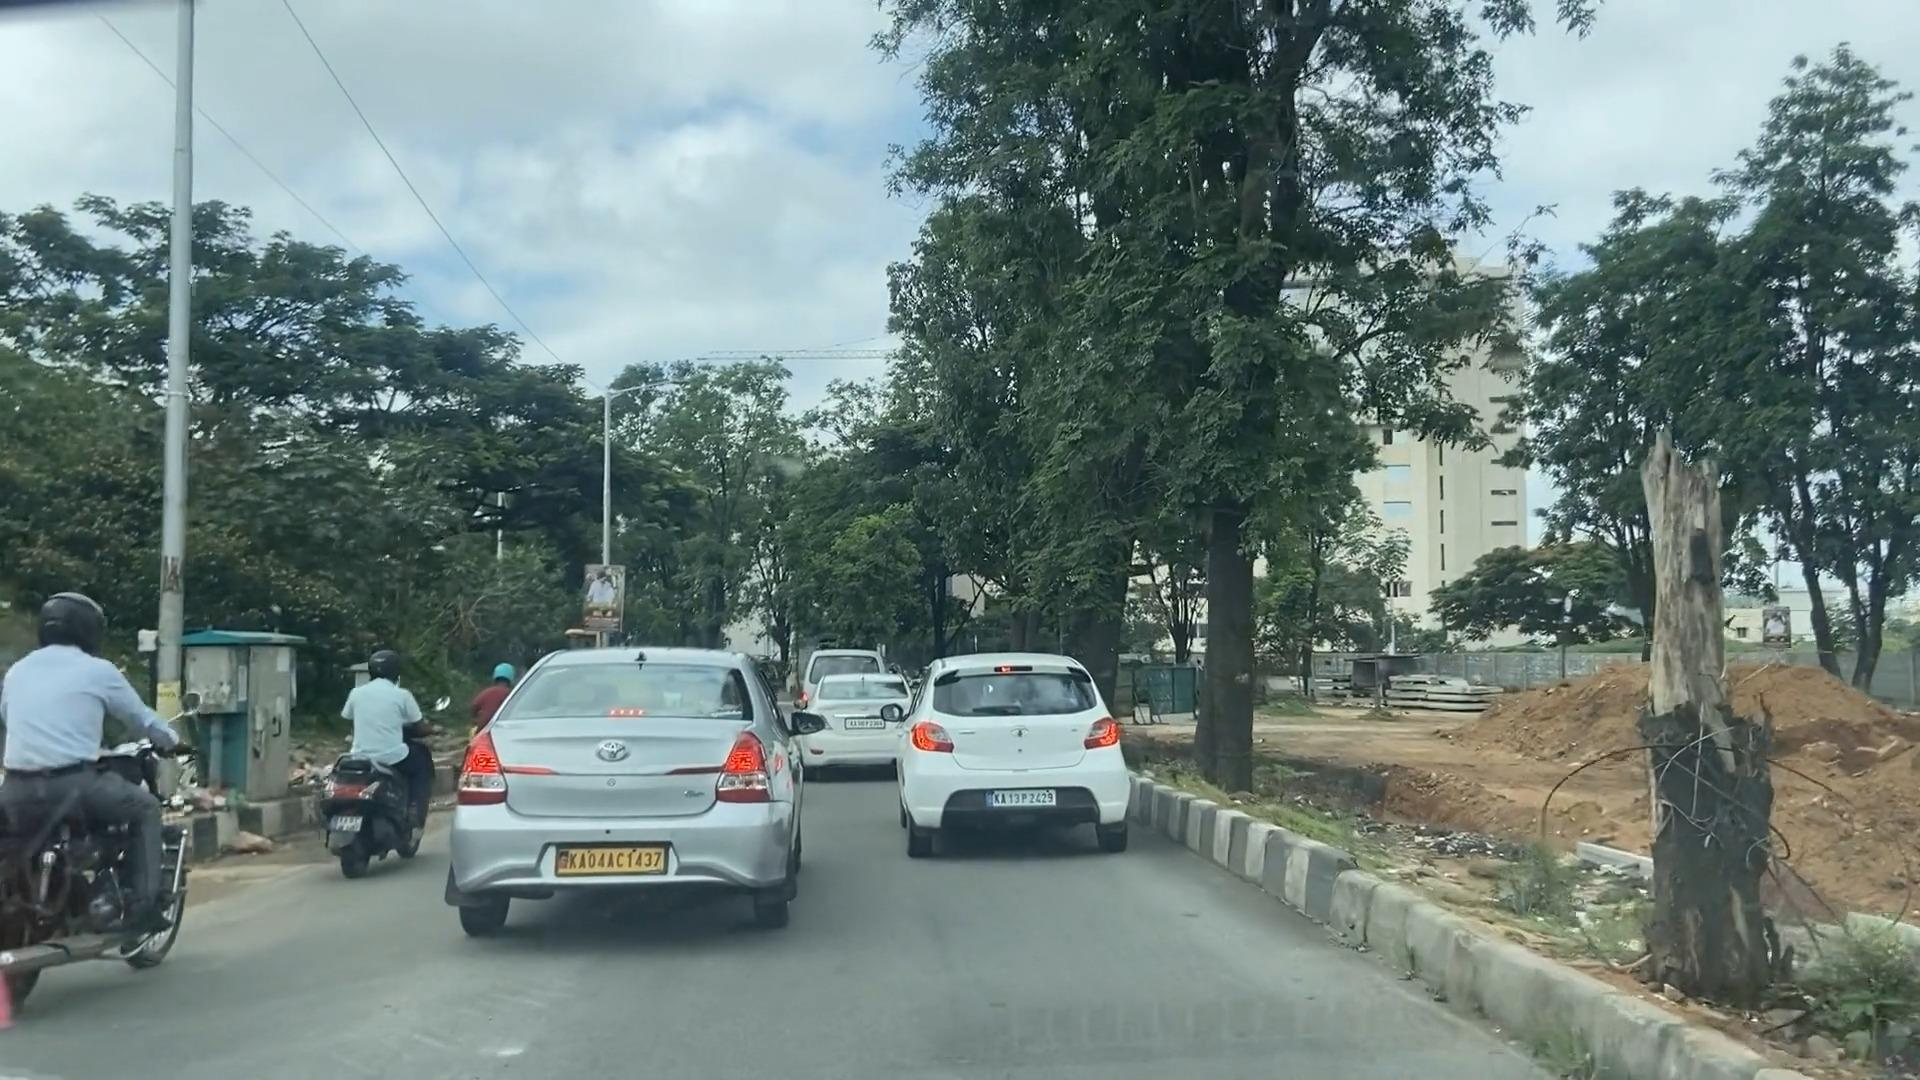LMV: (480, 680, 785, 922), (4, 620, 191, 978), (930, 654, 1127, 855), (334, 665, 421, 877)
